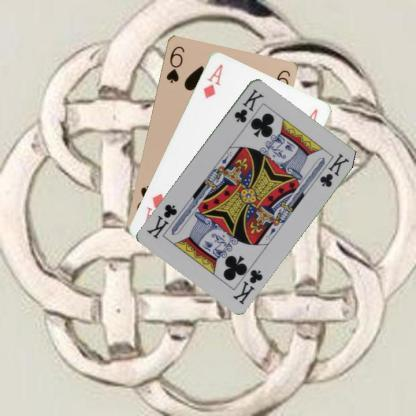6s: (164, 43, 186, 84)
Ad: (200, 61, 224, 100)
Kc: (229, 265, 264, 306), (231, 86, 265, 124)
